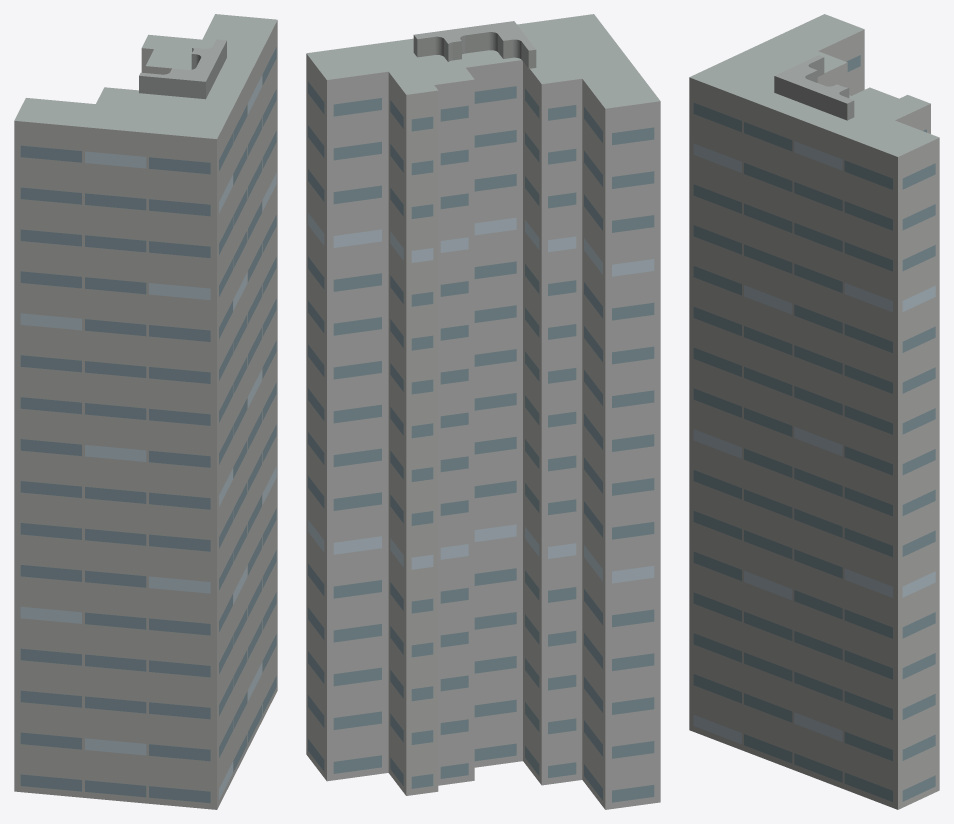
The model's file is fallback-godeok-arteon-completion-313.glb.
The picture shows the model from 3 angles, left to right: view 1: azimuth 30°, elevation 25°; view 2: azimuth 150°, elevation 25°; view 3: azimuth 270°, elevation 25°; orthographic projection. The views are drawn at different scales.
Visible parts, largest first — view 1: fallback-godeok-arteon-completion-313; view 2: fallback-godeok-arteon-completion-313; view 3: fallback-godeok-arteon-completion-313.
Boxes of the visible parts, bbox=[...] form: fallback-godeok-arteon-completion-313: bbox=[14, 14, 277, 809]; fallback-godeok-arteon-completion-313: bbox=[306, 14, 660, 809]; fallback-godeok-arteon-completion-313: bbox=[689, 14, 939, 809].
Size of the model in its own units: 43.53 by 95 by 32.22.
